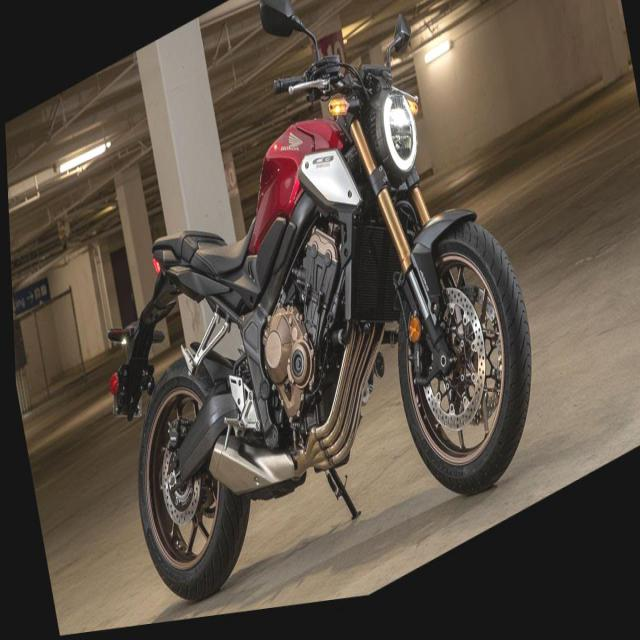CB650R: (52, 0, 552, 634)
